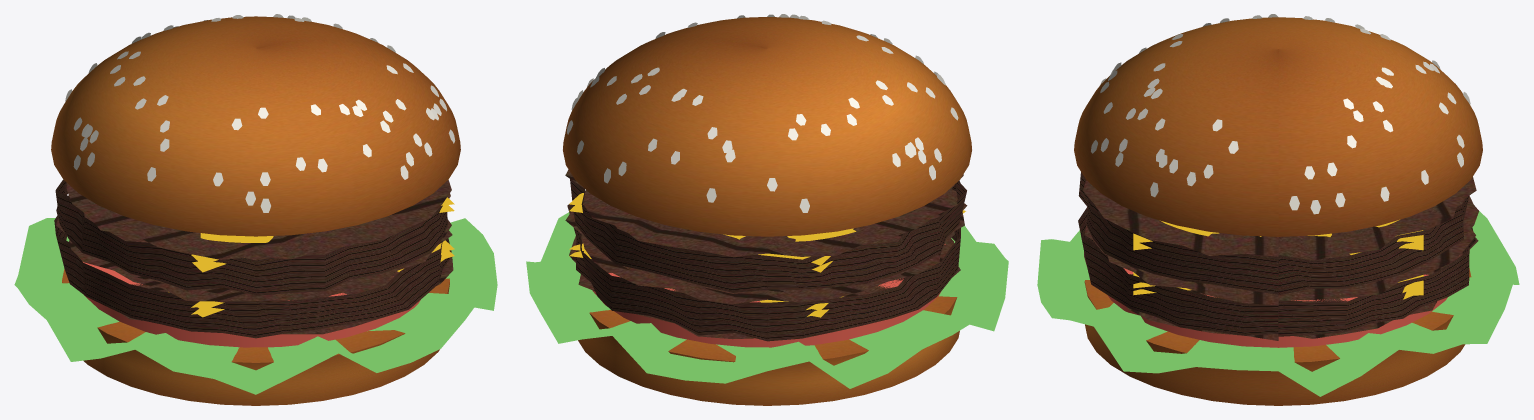
Rendered from hamburguesa_doble_cheddar.glb.
3 renders of one model, left to right at view 1: azimuth 30°, elevation 25°; view 2: azimuth 150°, elevation 25°; view 3: azimuth 270°, elevation 25°, orthographic.
Visible parts, largest first — view 1: HamburguesaDoble3D; view 2: HamburguesaDoble3D; view 3: HamburguesaDoble3D.
Part boxes in pixels (x1,y1,x2,y2): HamburguesaDoble3D: [14, 14, 497, 405]; HamburguesaDoble3D: [526, 14, 1008, 405]; HamburguesaDoble3D: [1037, 14, 1519, 405].
Size of the model in its own units: 2.24 by 1.41 by 2.24.
10 materials, 4 textured.
